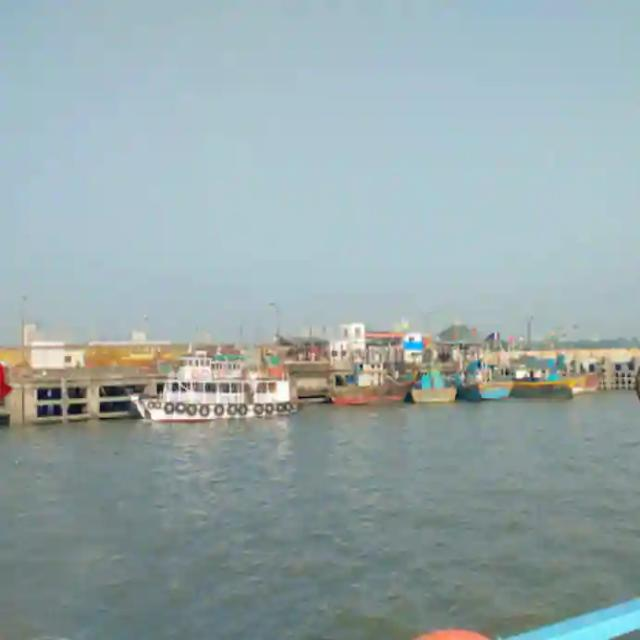passenger ship: (125, 341, 305, 424)
